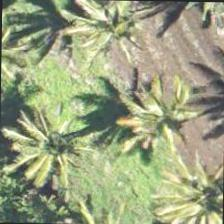Kelapa_Sawit: (96, 78, 188, 170), (0, 88, 88, 181), (60, 0, 152, 58), (155, 159, 223, 223)
